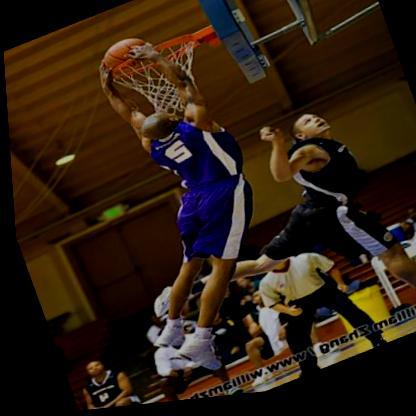basketball: (95, 31, 158, 94)
